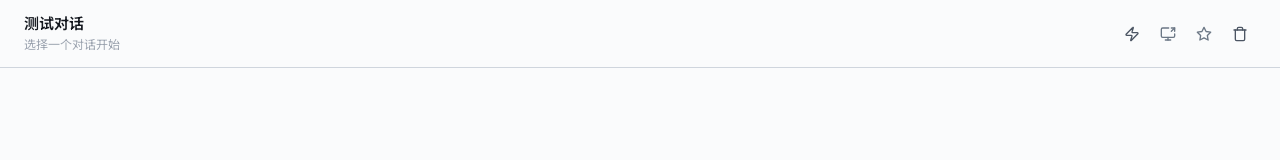
ChatHeader 标题行内改名（显式保存契约） › 双击进入编辑：草稿态控件在场（输入框 + 保存 + 取消）
Double-click the heading with class "header-title": (54, 24) [24, 14, 84, 34]
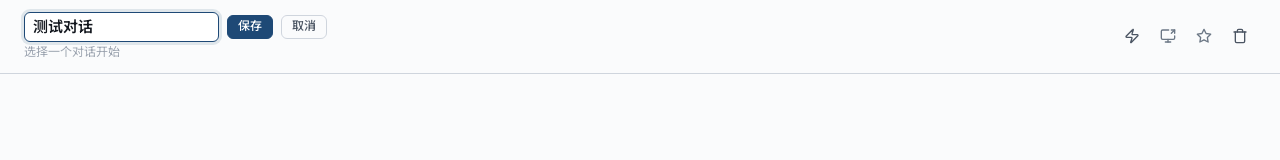
Expected: the button with class "is-save" is shown, [227, 15, 273, 39]
Expected: the button with class "title-edit-btn" reads "取消", [281, 15, 327, 39]
Expected: the field with class "header-edit-input" holds "测试对话", [24, 12, 219, 42]
